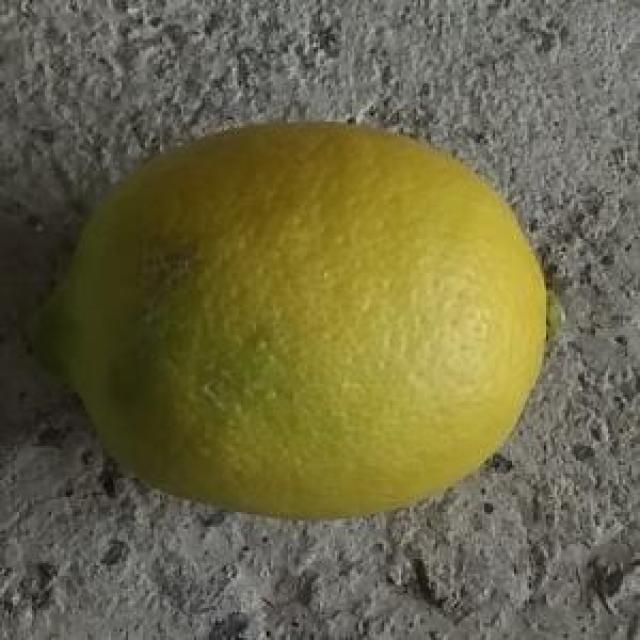lemon: (23, 115, 552, 521)
